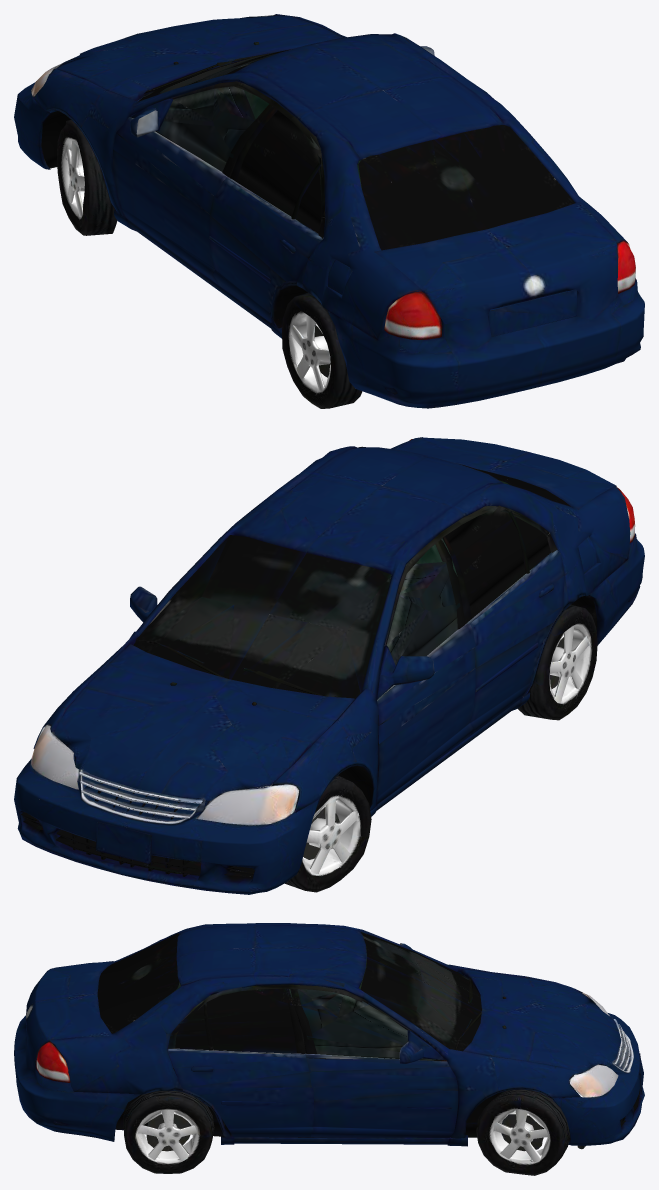
The model's file is carro-esportivo.glb.
3 renders of one model, top to bottom at view 1: azimuth 30°, elevation 25°; view 2: azimuth 150°, elevation 25°; view 3: azimuth 270°, elevation 25°, orthographic. The views are drawn at different scales.
Parts seen in each view (by area): view 1: Corpo, Roda_RL, Roda_FL; view 2: Corpo, Roda_FL, Roda_RL; view 3: Corpo, Roda_RR, Roda_FR.
Part boxes in pixels (x1=…): Corpo: x1=14, y1=14, x2=644, y2=408; Roda_RL: x1=274, y1=279, x2=362, y2=404; Roda_FL: x1=38, y1=107, x2=114, y2=235; Corpo: x1=14, y1=437, x2=644, y2=894; Roda_FL: x1=285, y1=762, x2=371, y2=887; Roda_RL: x1=525, y1=591, x2=603, y2=715; Corpo: x1=14, y1=923, x2=644, y2=1175; Roda_RR: x1=123, y1=1086, x2=214, y2=1171; Roda_FR: x1=476, y1=1086, x2=570, y2=1174.
Bounding box in the file's own units: 1.86 × 1.41 × 4.5.
1 material, 1 textured.
